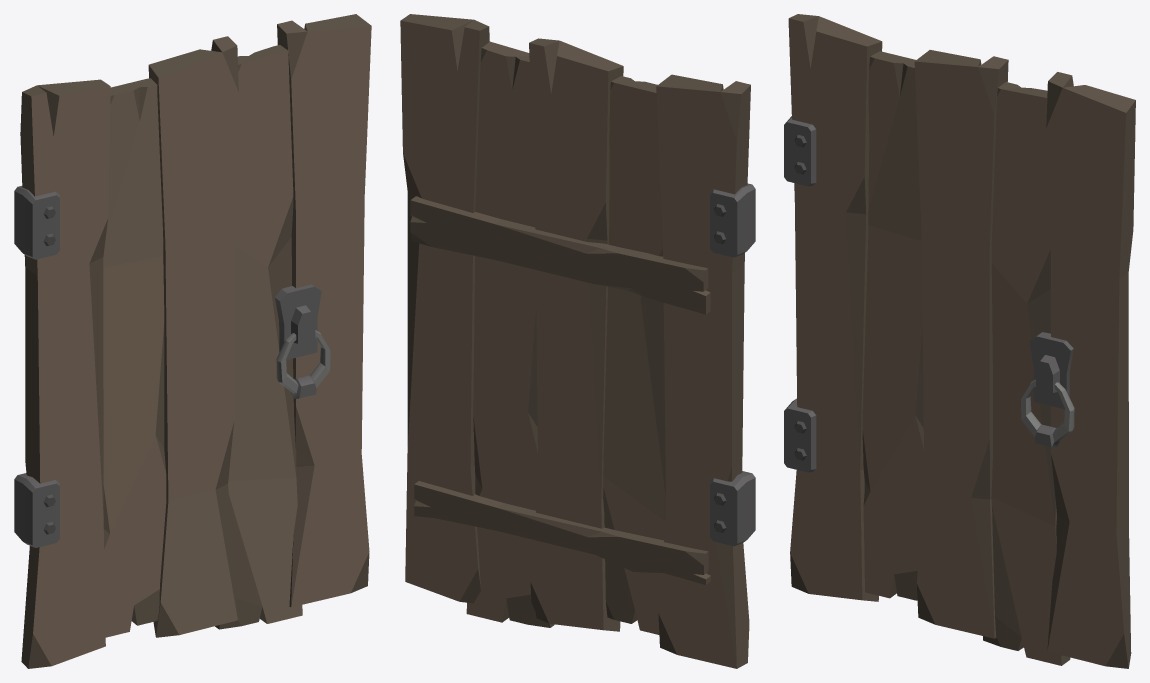
The model's file is SM_Env_Door_03.FBX.
The picture shows the model from 3 angles, left to right: view 1: azimuth 30°, elevation 25°; view 2: azimuth 150°, elevation 25°; view 3: azimuth 330°, elevation 25°; orthographic projection.
Visible parts, largest first — view 1: SM_Env_Door_03; view 2: SM_Env_Door_03; view 3: SM_Env_Door_03.
Part boxes in pixels (x1,y1,x2,y2): SM_Env_Door_03: (14, 14, 371, 668); SM_Env_Door_03: (400, 14, 755, 668); SM_Env_Door_03: (784, 14, 1135, 668).
Size of what is drawn, in the model's own units: 133 by 18.49 by 218.
